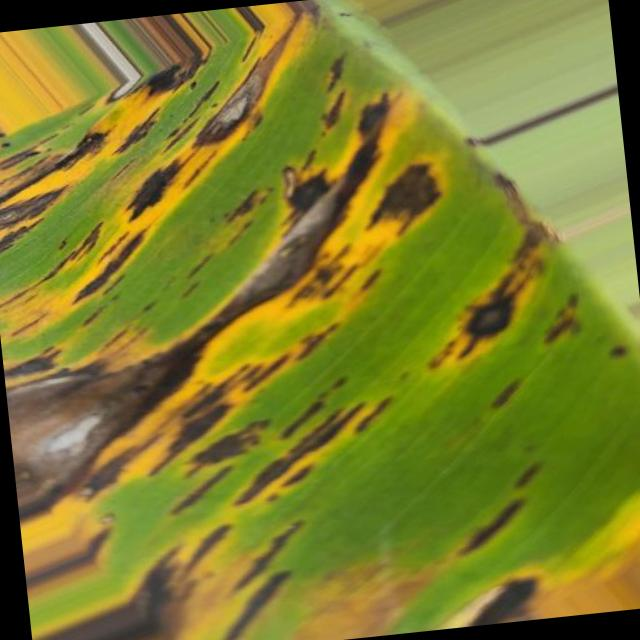Banana_Black_Sigatoka: (44, 220, 627, 604), (0, 67, 470, 367)
